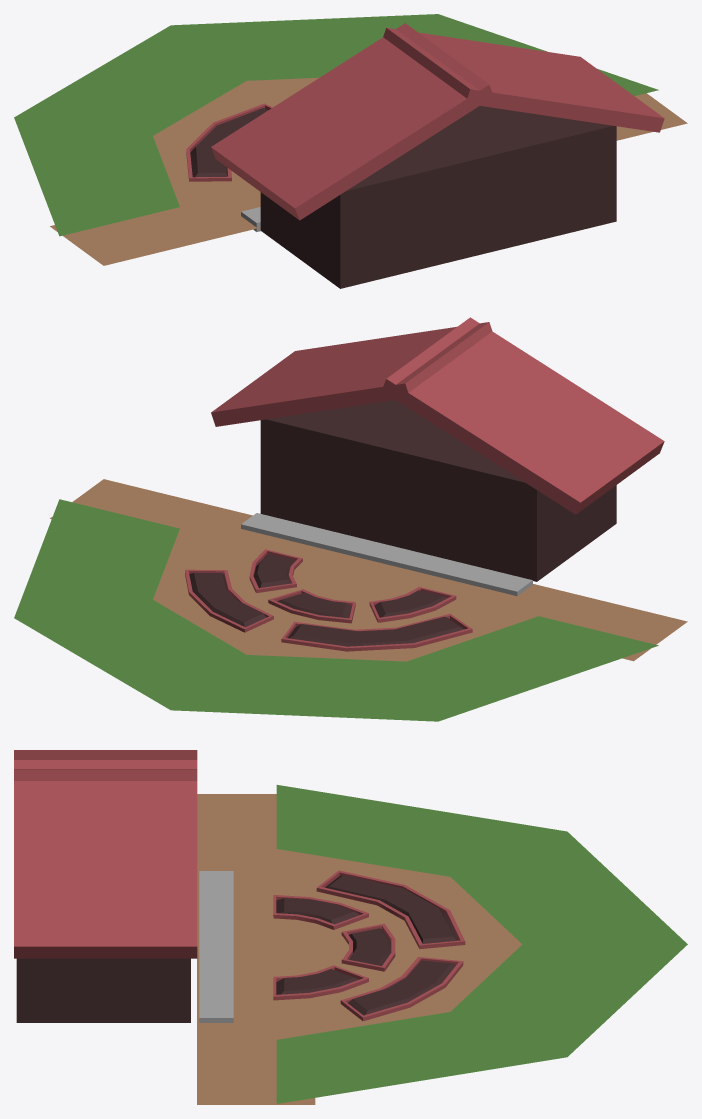
File: environmental layout 2_13.fbx
The picture shows the model from 3 angles, top to bottom: view 1: azimuth 30°, elevation 25°; view 2: azimuth 150°, elevation 25°; view 3: azimuth 270°, elevation 25°; orthographic projection. The views are drawn at different scales.
Visible parts, largest first — view 1: house_filler1, forest, ground, planters_back1; view 2: house_filler1, forest, ground, planters_back1, behind_filler, planters_front; view 3: forest, house_filler1, ground, planters_back1, planters_front, behind_filler.
Boxes of the visible parts, <box> form: house_filler1: <box>211,23,664,288</box>; forest: <box>14,14,658,236</box>; ground: <box>50,77,687,265</box>; planters_back1: <box>186,103,272,181</box>; house_filler1: <box>211,317,664,581</box>; forest: <box>14,499,658,721</box>; ground: <box>50,479,687,661</box>; planters_back1: <box>185,569,472,651</box>; behind_filler: <box>241,513,532,595</box>; planters_front: <box>249,549,456,623</box>; forest: <box>276,785,687,1103</box>; house_filler1: <box>14,750,197,1022</box>; ground: <box>197,794,522,1104</box>; planters_back1: <box>316,870,465,1020</box>; planters_front: <box>273,895,395,1000</box>; behind_filler: <box>199,871,233,1022</box>.
Bounding box in the file's own units: 6.51 × 1.8 × 5.81.
